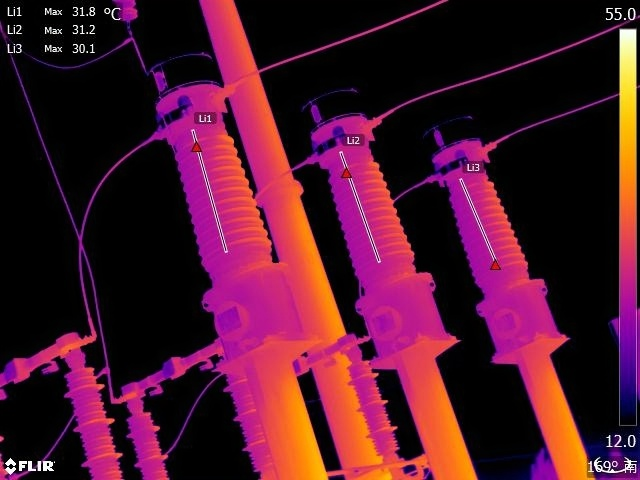current transformer: (146, 44, 312, 359), (298, 76, 453, 349), (420, 106, 572, 346)
post insulator: (60, 360, 128, 480), (348, 357, 400, 460), (223, 362, 272, 471), (124, 406, 174, 480)
switch: (117, 333, 231, 396), (1, 322, 89, 398), (291, 328, 360, 377)
